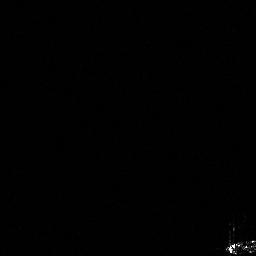ship: (221, 237, 256, 256)
